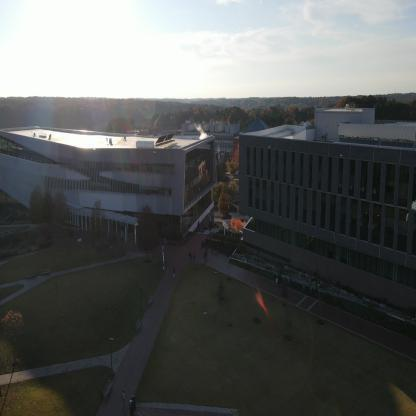Fitts- Woolard: (237, 118, 415, 324), (3, 125, 228, 245)
